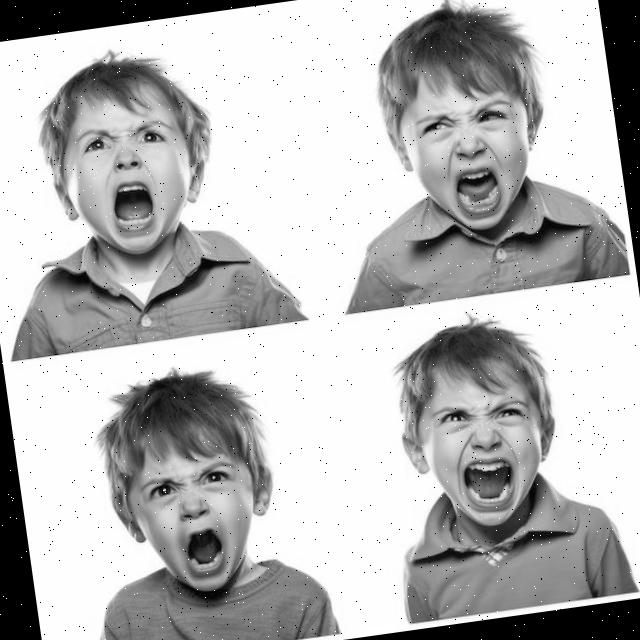Angry: (54, 79, 202, 262), (412, 356, 554, 536), (121, 424, 266, 600)
